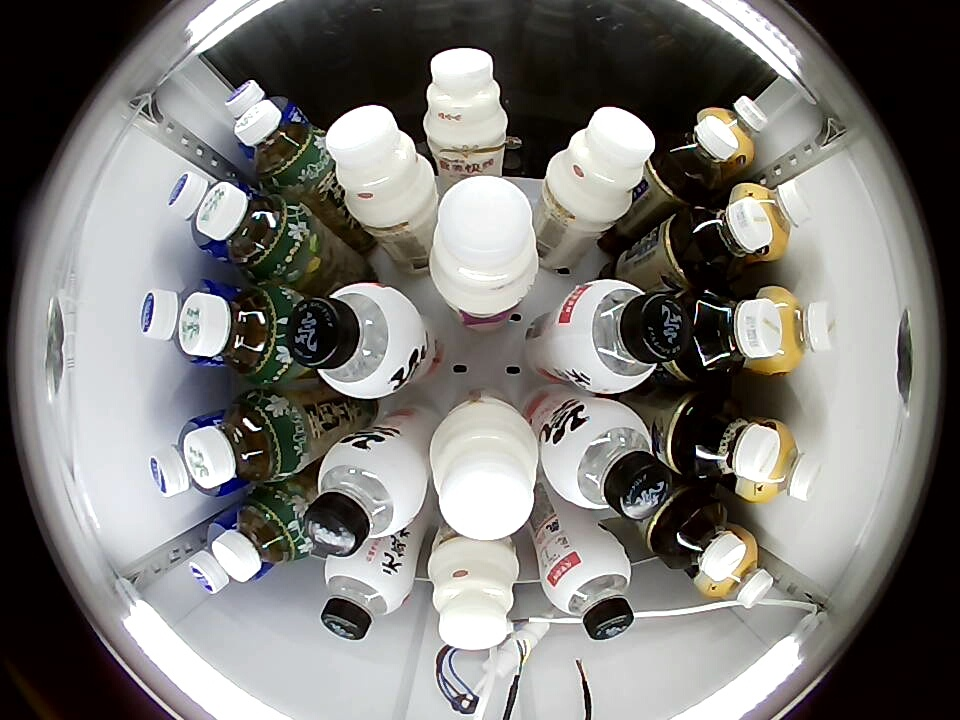asamu: (766, 287, 838, 373), (740, 180, 814, 255), (750, 427, 822, 503), (705, 540, 774, 609), (707, 94, 769, 167)
baokuangli: (139, 279, 215, 364), (166, 171, 238, 251), (149, 419, 220, 498), (189, 518, 257, 594), (225, 79, 290, 146)
moliqingcha: (185, 390, 301, 493), (184, 281, 297, 385), (198, 182, 309, 281), (212, 492, 304, 582), (235, 100, 326, 189)
wulongcha: (690, 287, 783, 381), (687, 394, 780, 483), (683, 197, 772, 283), (666, 499, 746, 581), (660, 115, 738, 189)
yingyangkuaixian: (429, 399, 540, 541), (429, 178, 540, 318), (325, 106, 435, 224), (546, 107, 655, 222), (427, 539, 521, 649), (423, 47, 508, 146)
yuanqishui: (552, 280, 689, 396), (287, 283, 423, 398), (303, 432, 427, 557), (541, 400, 667, 518), (319, 547, 414, 641), (543, 543, 635, 640)
